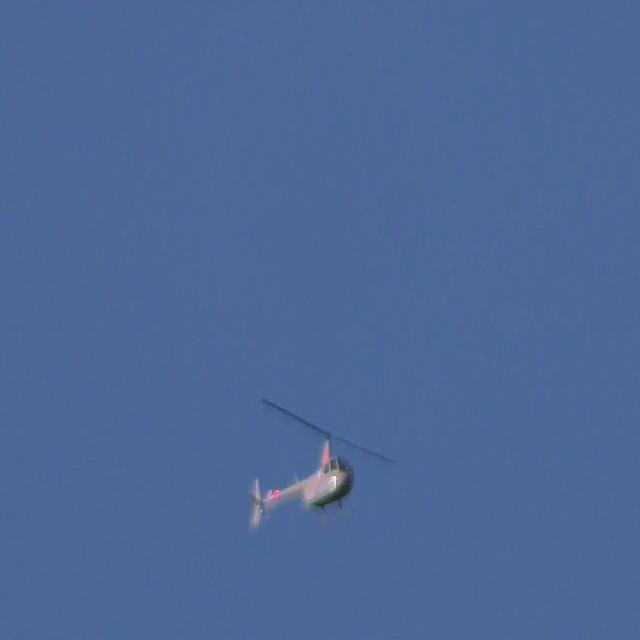CIV_HELO: (248, 429, 357, 532)
